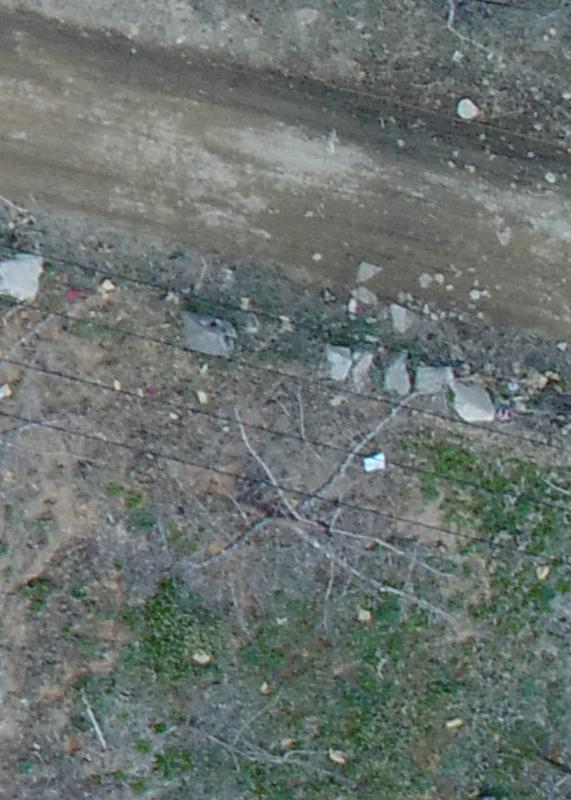apple: (202, 389, 478, 628)
